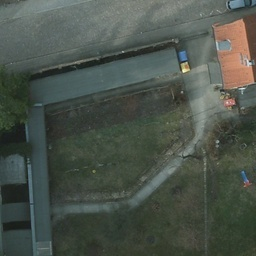car: (223, 1, 256, 12)
